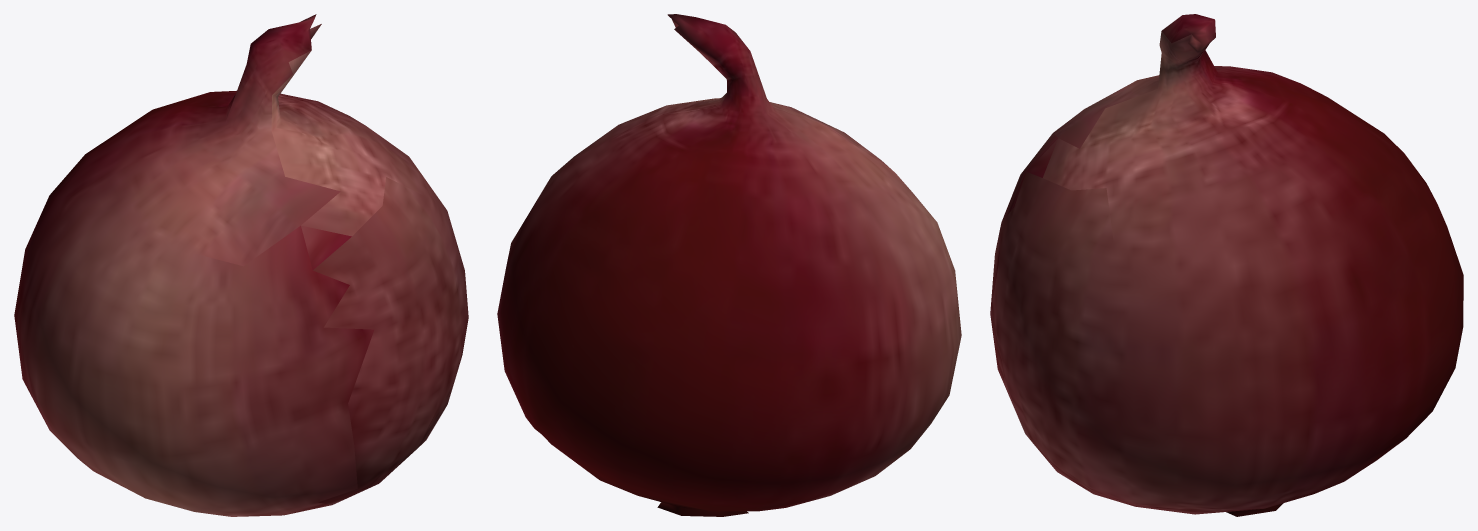
File: onion.obj
3 views of the same model, side by side, from view 1: azimuth 30°, elevation 25°; view 2: azimuth 150°, elevation 25°; view 3: azimuth 270°, elevation 25° (orthographic). The views are drawn at different scales.
Parts seen in each view (by area): view 1: onion.002; view 2: onion.002; view 3: onion.002.
Part boxes in pixels (x1,y1,x2,y2): onion.002: (14, 14, 468, 516); onion.002: (497, 14, 961, 516); onion.002: (990, 14, 1463, 516).
Size of the model in its own units: 22.54 by 25.1 by 21.69.
Materials: 1 (1 with a texture image).
